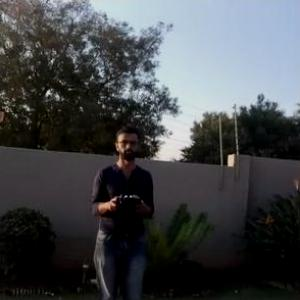follow: (86, 120, 158, 299)
